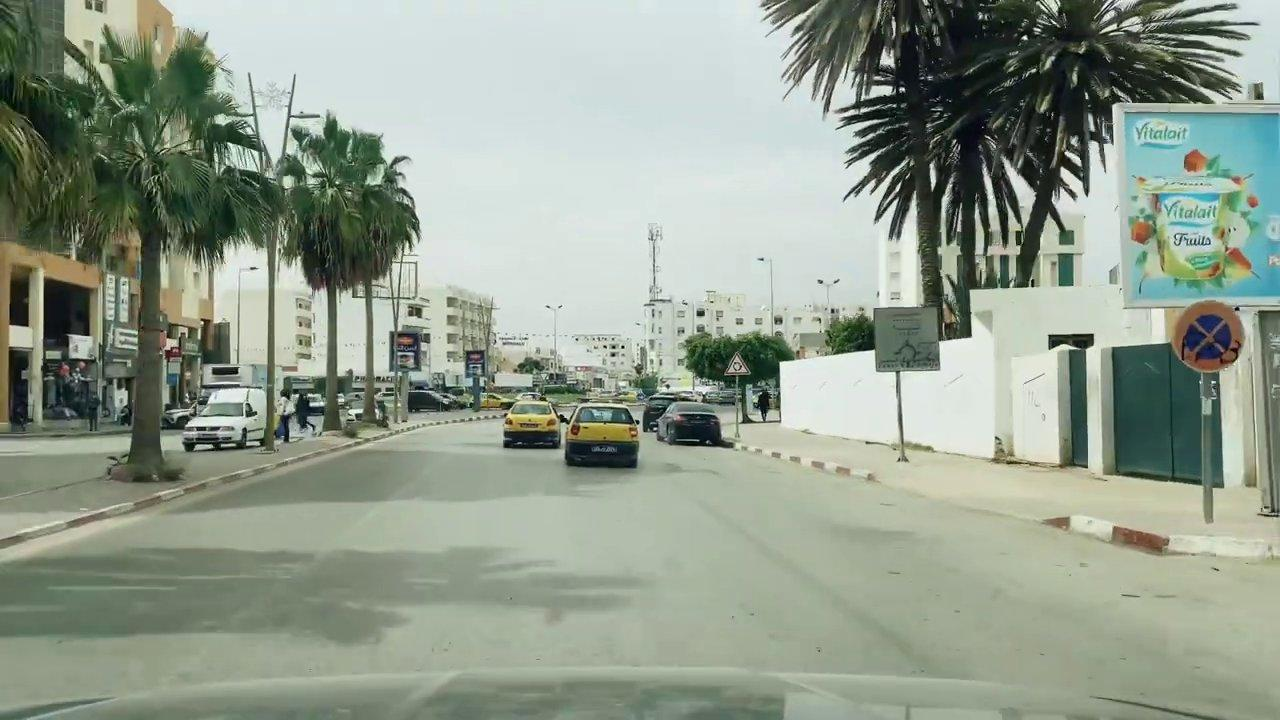no stopping: (1171, 300, 1250, 375)
